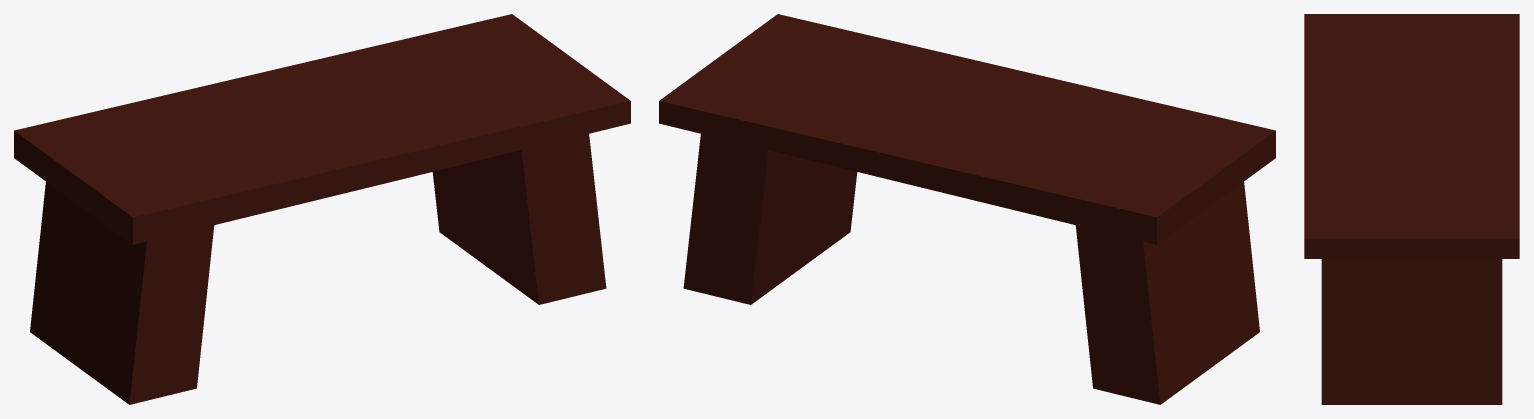
The model's file is prop_bench.glb.
3 views of the same model, side by side, from view 1: azimuth 30°, elevation 25°; view 2: azimuth 150°, elevation 25°; view 3: azimuth 270°, elevation 25° (orthographic). The views are drawn at different scales.
Parts seen in each view (by area): view 1: Props with out snow_Bench_0; view 2: Props with out snow_Bench_0; view 3: Props with out snow_Bench_0.
Part boxes in pixels (x1,y1,x2,y2): Props with out snow_Bench_0: (14, 14, 630, 404); Props with out snow_Bench_0: (659, 14, 1275, 404); Props with out snow_Bench_0: (1304, 14, 1519, 404).
Bounding box in the file's own units: 3.61 × 1.36 × 1.49.
